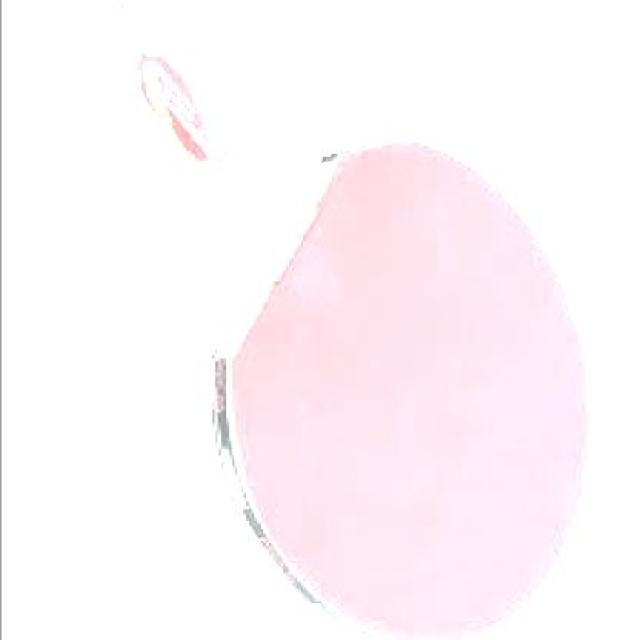table_tennis_racket: (202, 135, 595, 639)
